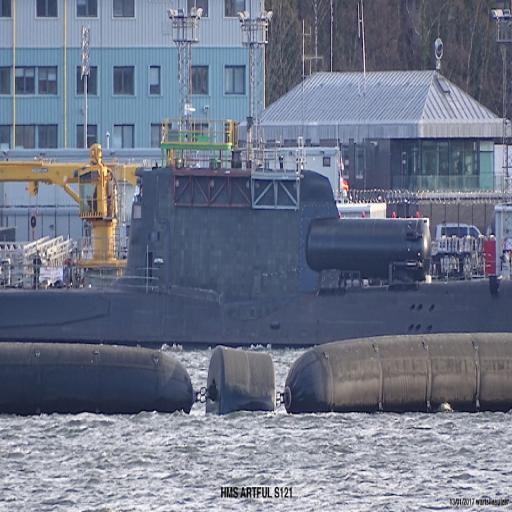submarine: (1, 167, 512, 340)
